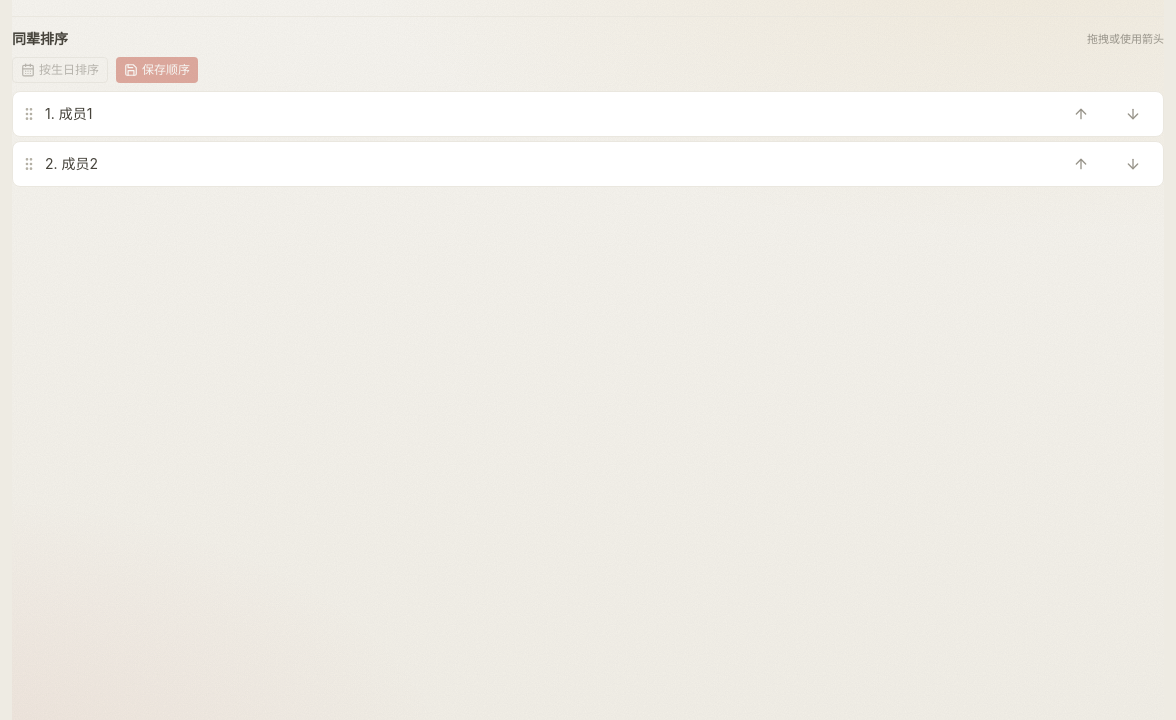
Scenario: SiblingOrderControl › restores the previous order and shows an error when saving fails
Click the button named "下移 成员1". click: point(1133, 114)
box: x1=1111 y1=92 x2=1155 y2=136
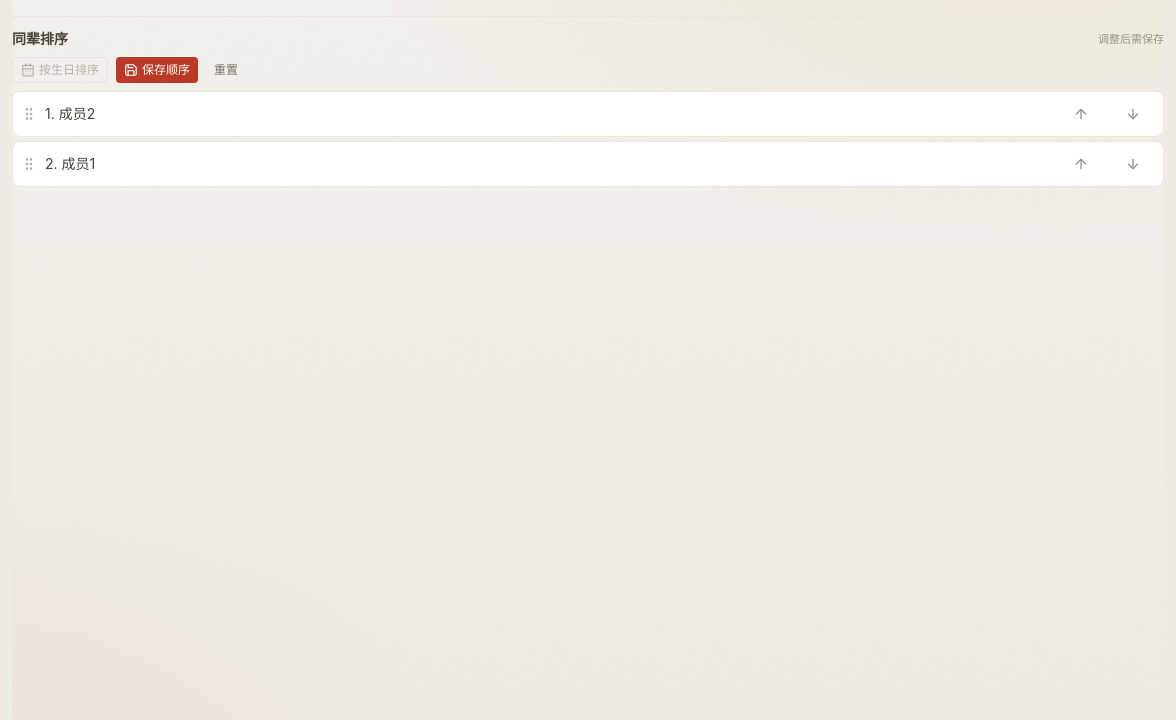
Click the button "保存顺序". click: point(157, 70)
box: x1=116 y1=57 x2=198 y2=83
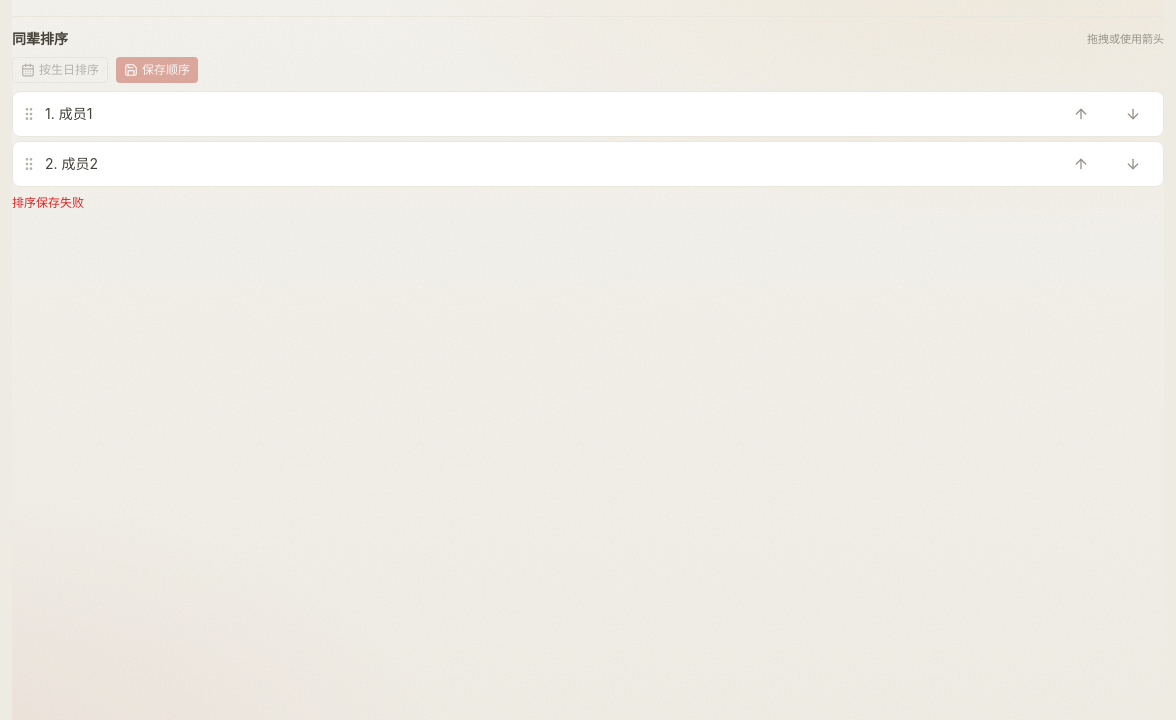
Result: the message reads "排序保存失败" at x1=12 y1=195 x2=84 y2=210
Result: the list items read "1. 成员1", "2. 成员2", in this order at x1=12 y1=91 x2=1164 y2=137; x1=12 y1=141 x2=1164 y2=187
